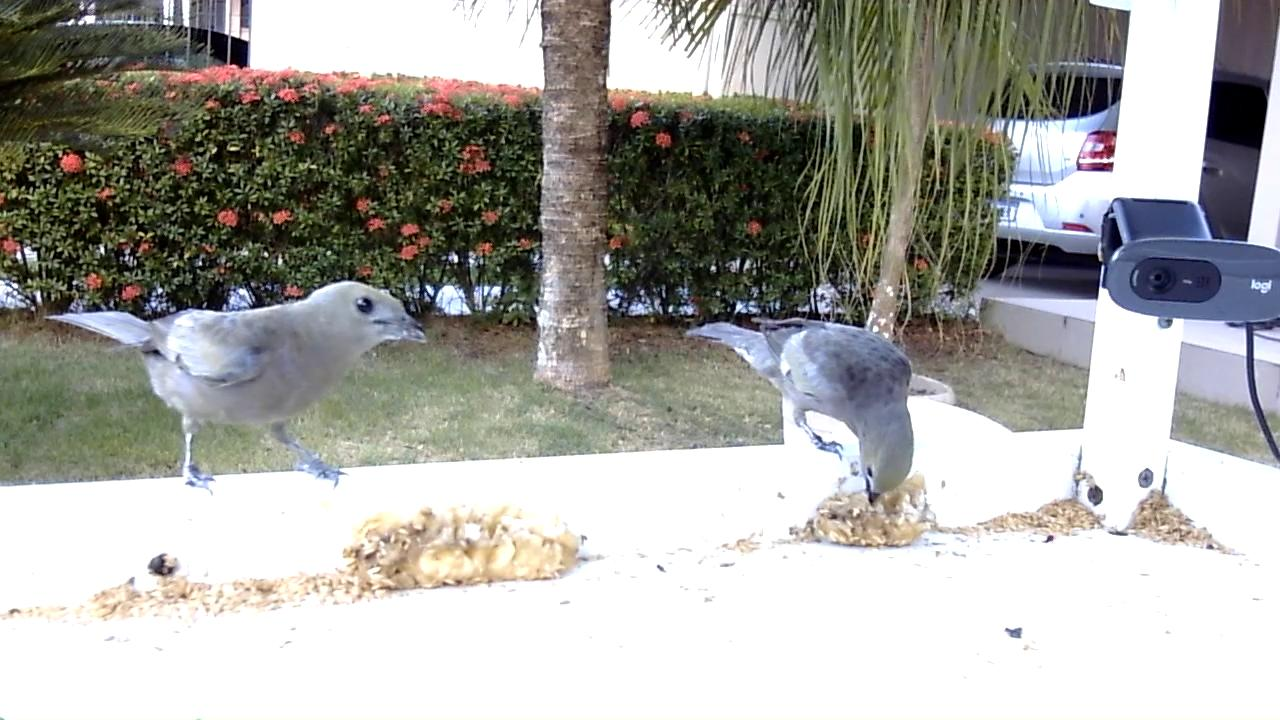sanhaco_do_coqueiro: (46, 281, 428, 498), (684, 315, 917, 507)
